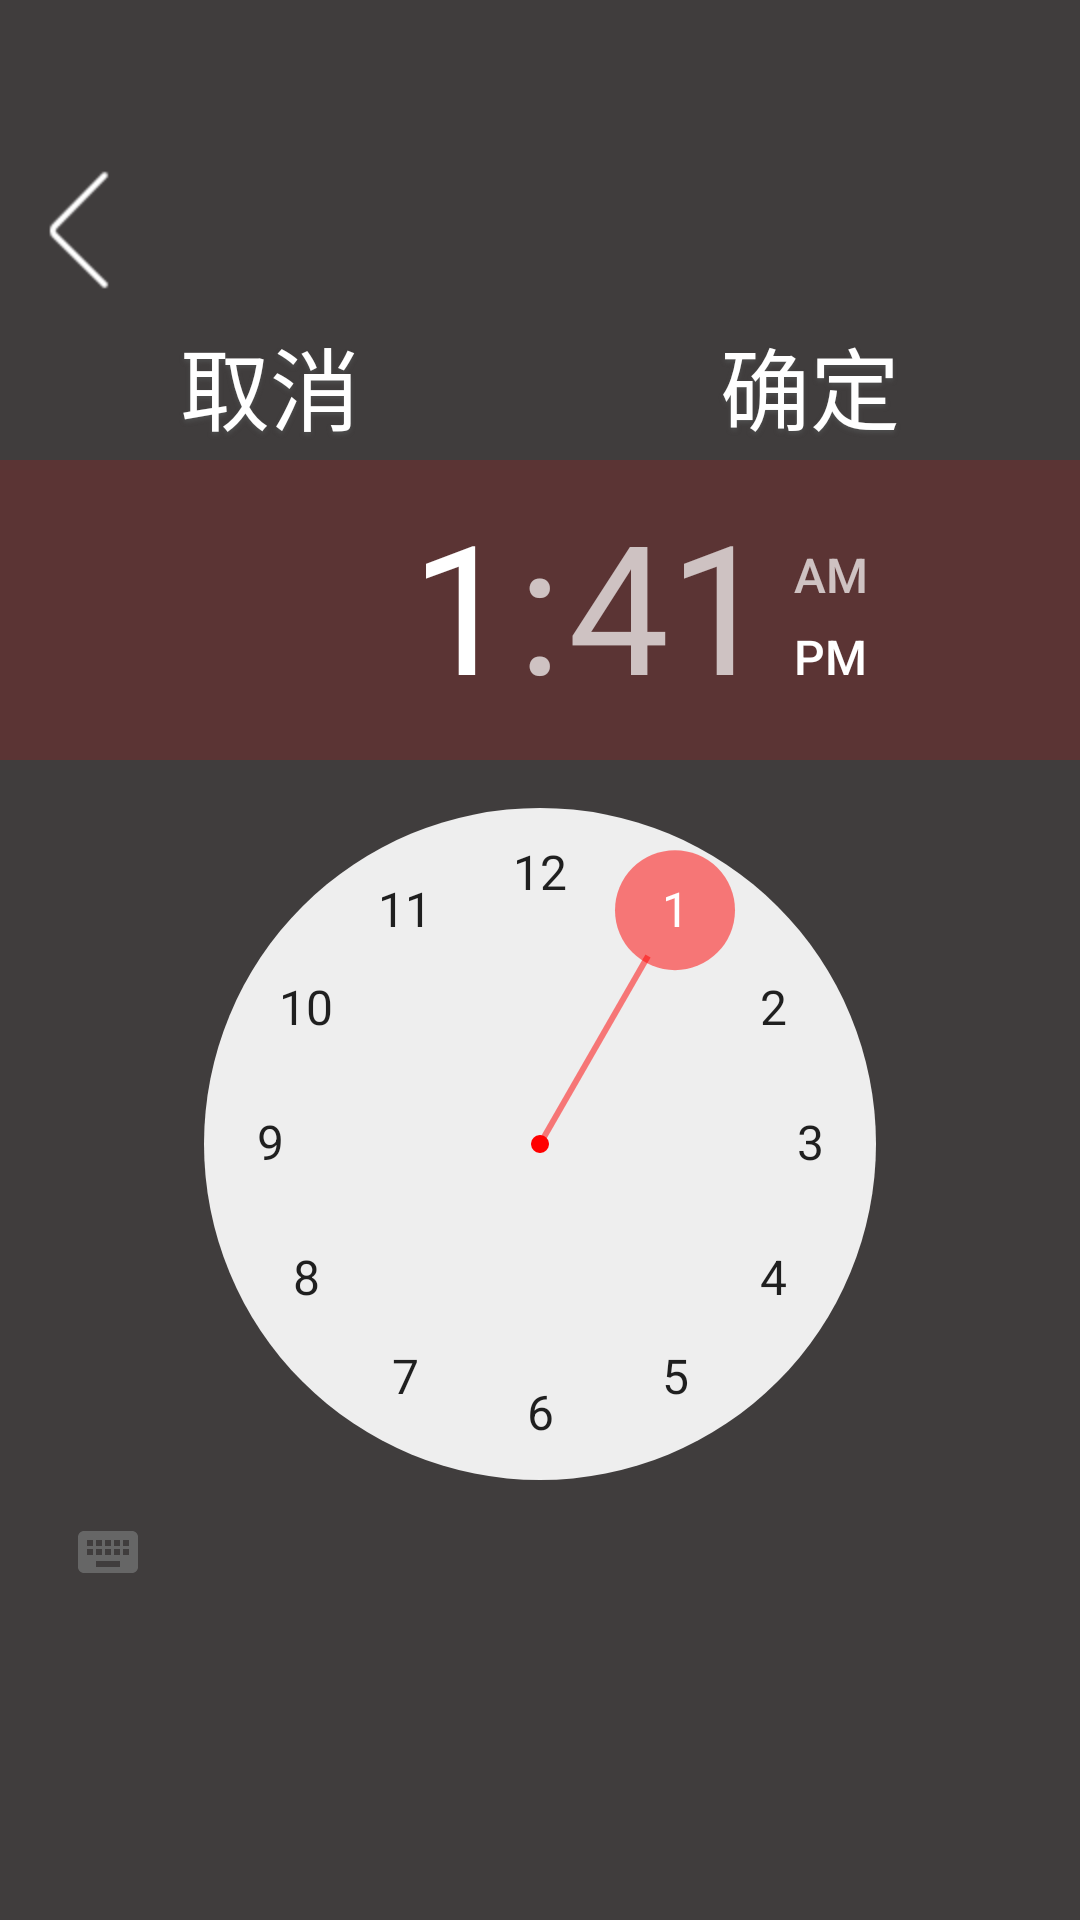

Icon bounding boxes for this 1080w x 1920h phone screenshot, format (x1, y1, x2, y2):
back: (49, 171, 109, 289)
